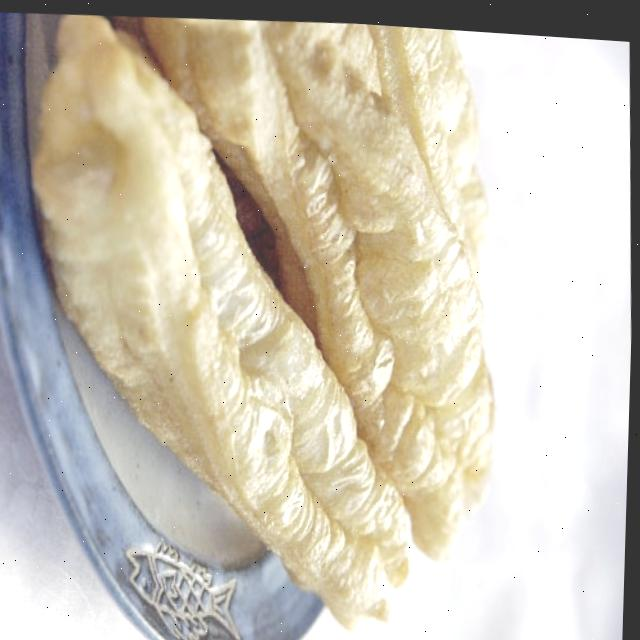炸货点心: (3, 1, 558, 635)
